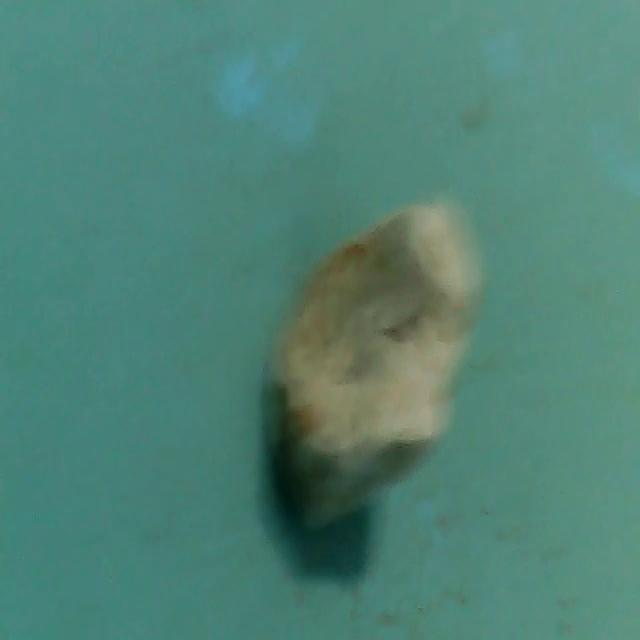rock: (256, 195, 486, 545)
